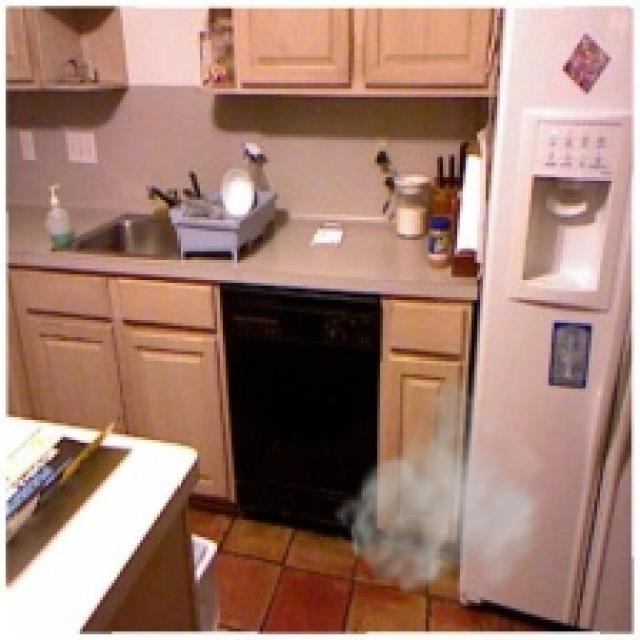Smoke: (332, 366, 552, 618)
